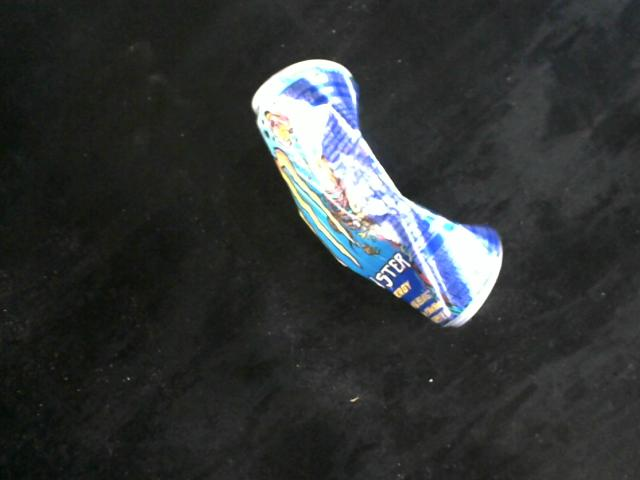can: (249, 58, 508, 338)
